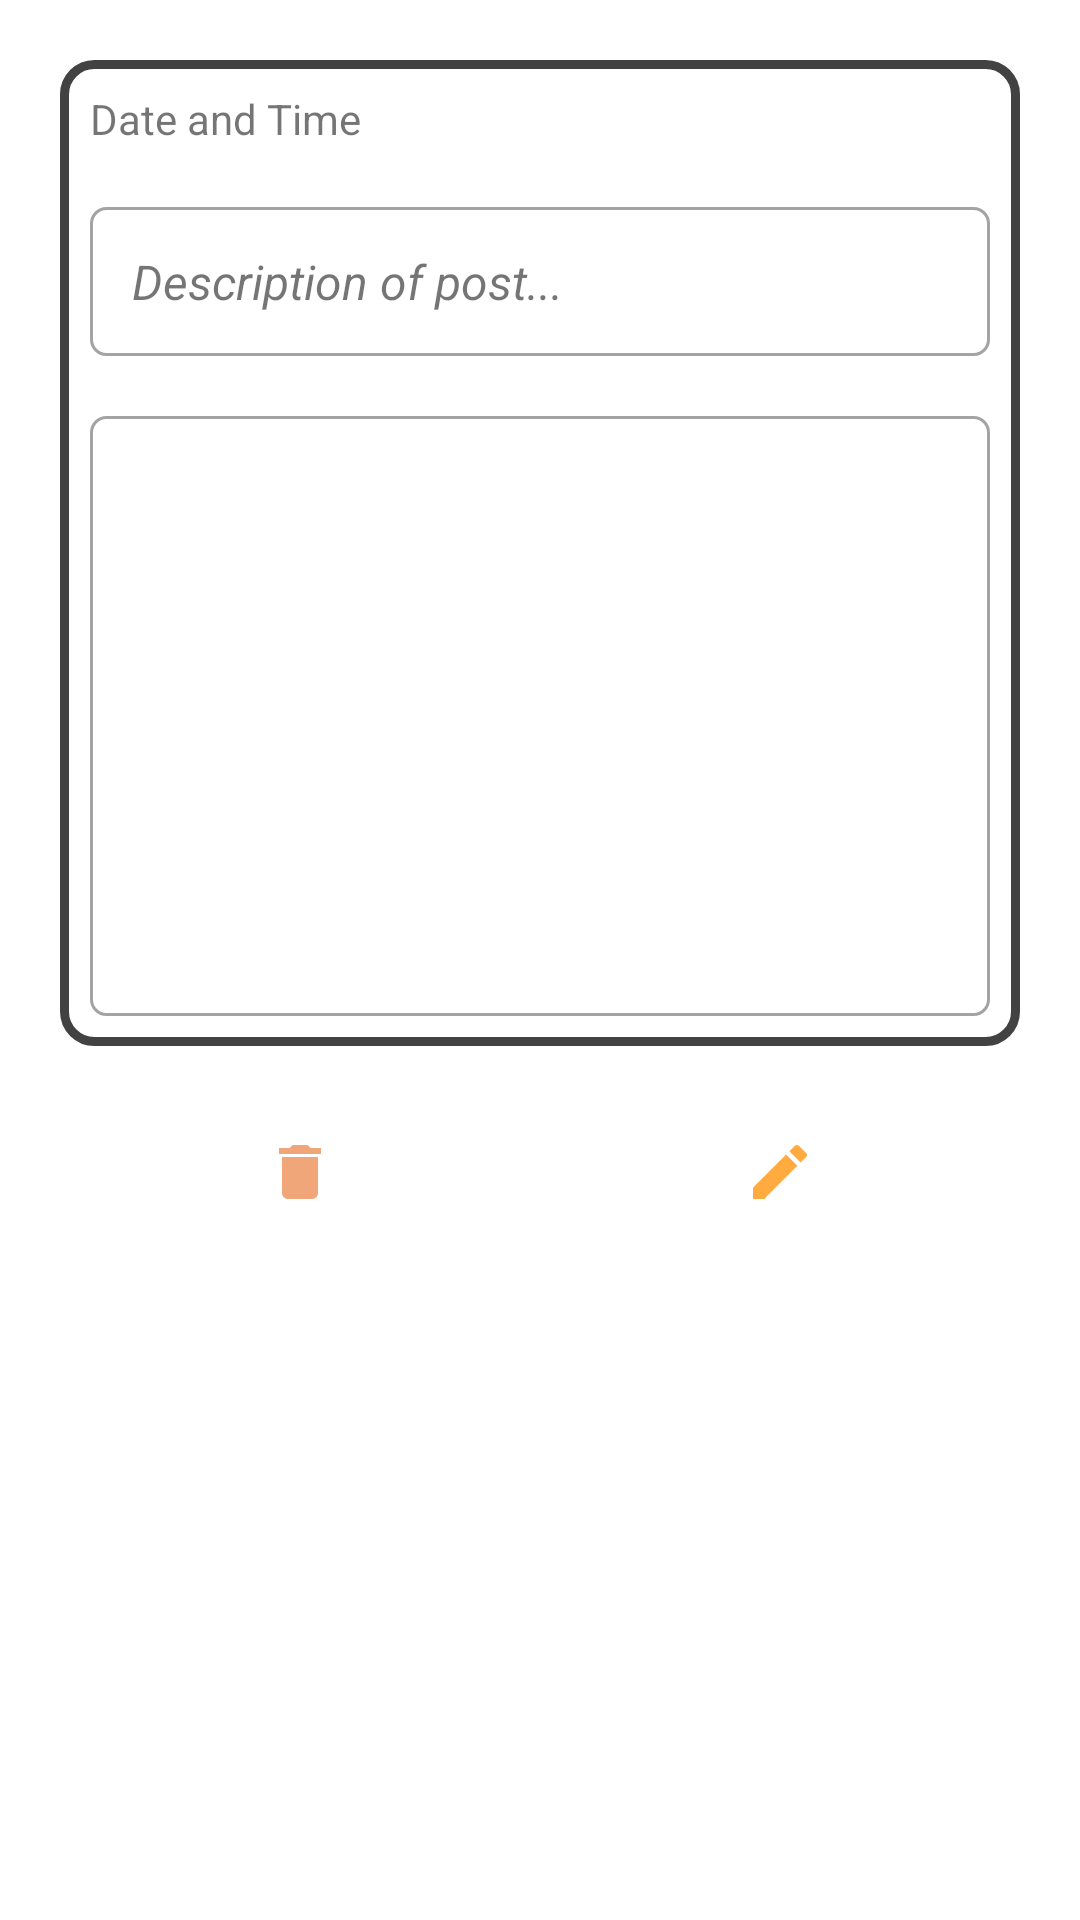

Point at icon controls on the screen. Image size 1080w x 1920h, points as (x,y).
delete: (300,1172)
edit: (780,1172)
